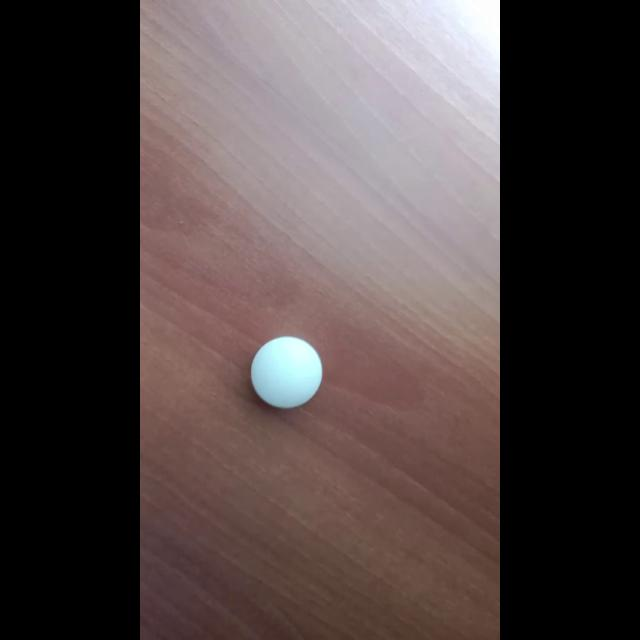white ball: (250, 335, 322, 409)
